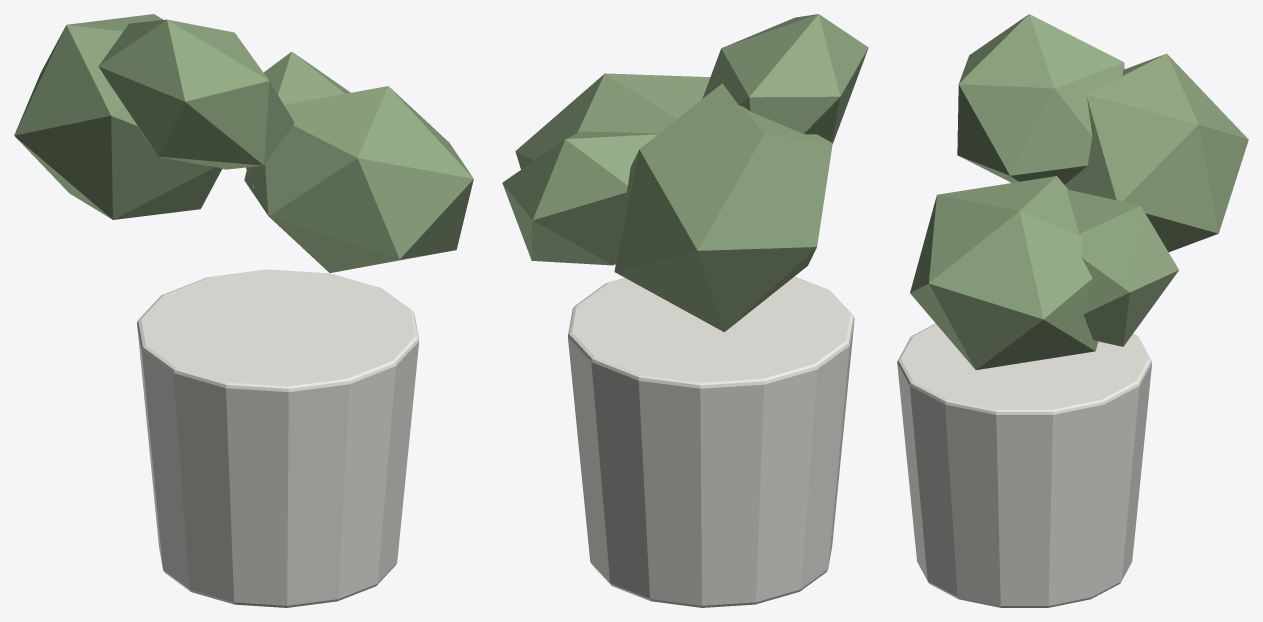
File: plant.glb
The picture shows the model from 3 angles, left to right: view 1: azimuth 30°, elevation 25°; view 2: azimuth 150°, elevation 25°; view 3: azimuth 270°, elevation 25°; orthographic projection. The views are drawn at different scales.
Visible parts, largest first — view 1: vaso, Icosphere, Icosphere.002, Icosphere.003, Icosphere.001; view 2: vaso, Icosphere.002, Icosphere.001, Icosphere.003, Icosphere; view 3: vaso, Icosphere, Icosphere.002, Icosphere.003, Icosphere.001.
Boxes of the visible parts, x1,y1,x2,y2 form: vaso: (137, 269, 419, 607); Icosphere: (244, 86, 473, 272); Icosphere.002: (14, 14, 221, 219); Icosphere.003: (98, 19, 294, 169); Icosphere.001: (246, 51, 350, 188); vaso: (568, 276, 854, 607); Icosphere.002: (614, 83, 832, 332); Icosphere.001: (502, 131, 658, 265); Icosphere.003: (702, 14, 868, 143); Icosphere: (515, 73, 710, 169); vaso: (897, 323, 1152, 607); Icosphere: (910, 176, 1098, 369); Icosphere.002: (1065, 53, 1248, 251); Icosphere.003: (957, 14, 1124, 184); Icosphere.001: (1067, 189, 1178, 346).
Bounding box in the file's own units: 0.5639 × 0.8299 × 0.5248.
